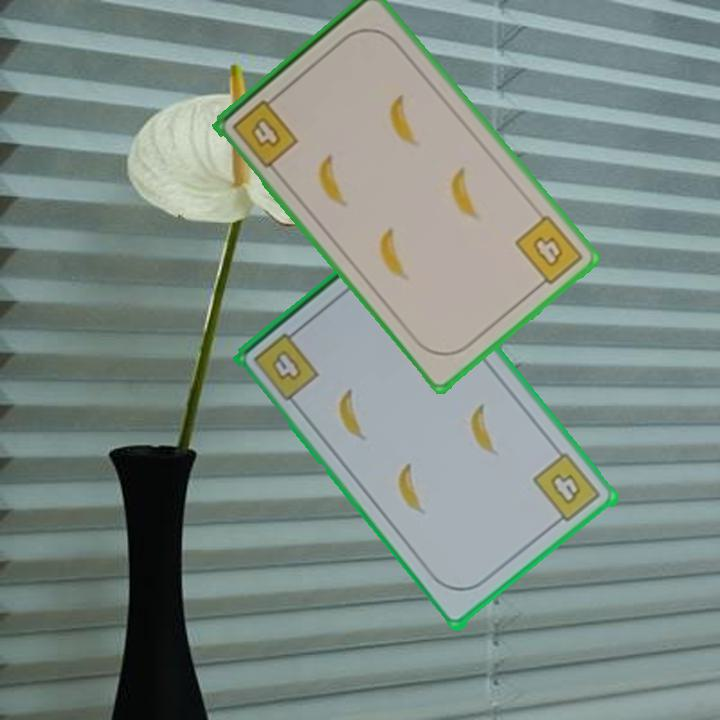4b: (511, 211, 586, 293), (530, 449, 604, 530), (250, 323, 323, 404), (229, 91, 302, 171)
